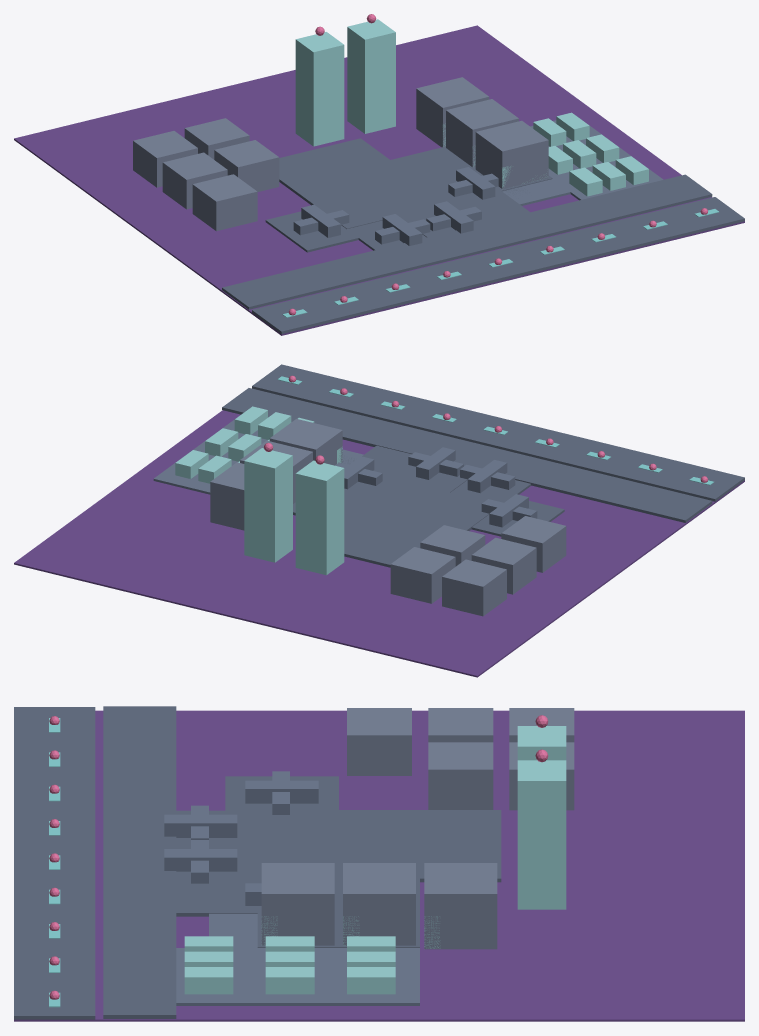
Rendered from stage_24.glb.
The picture shows the model from 3 angles, top to bottom: view 1: azimuth 30°, elevation 25°; view 2: azimuth 150°, elevation 25°; view 3: azimuth 270°, elevation 25°; orthographic projection. The views are drawn at different scales.
Parts seen in each view (by area): view 1: geometry_0; view 2: geometry_0; view 3: geometry_0.
Part boxes in pixels (left/top/right/bottom): geometry_0: left=14, top=14, right=744, bottom=335; geometry_0: left=14, top=364, right=744, bottom=677; geometry_0: left=14, top=706, right=744, bottom=1021.
Bounding box in the file's own units: 9 × 2.06 × 9.
